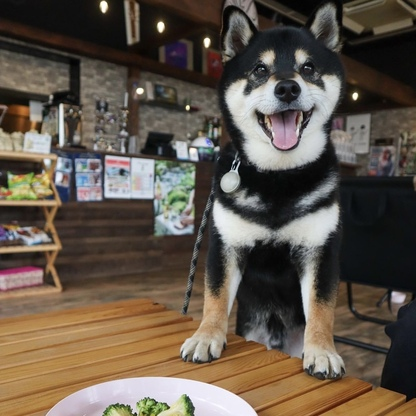shiba: (172, 2, 354, 384)
